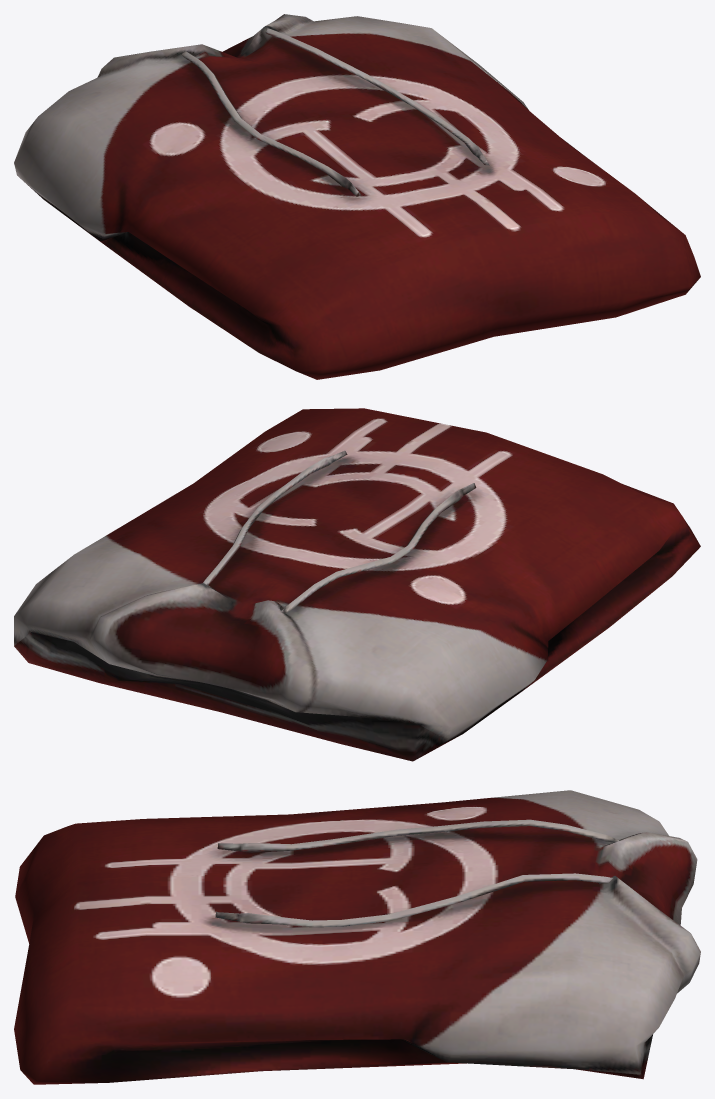
Rendered from sweater_smiley.dae.
3 views of the same model, one above another, from view 1: azimuth 30°, elevation 25°; view 2: azimuth 150°, elevation 25°; view 3: azimuth 270°, elevation 25° (orthographic). The views are drawn at different scales.
Parts seen in each view (by area): view 1: polymsh; view 2: polymsh; view 3: polymsh.
Part boxes in pixels (<box>): polymsh: <box>14,14,700,379</box>; polymsh: <box>14,408,700,761</box>; polymsh: <box>14,790,700,1084</box>.
Size of the model in its own units: 29.31 by 7.92 by 35.54.
